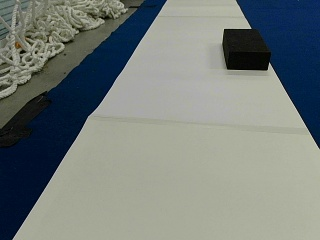block: (222, 28, 269, 70)
